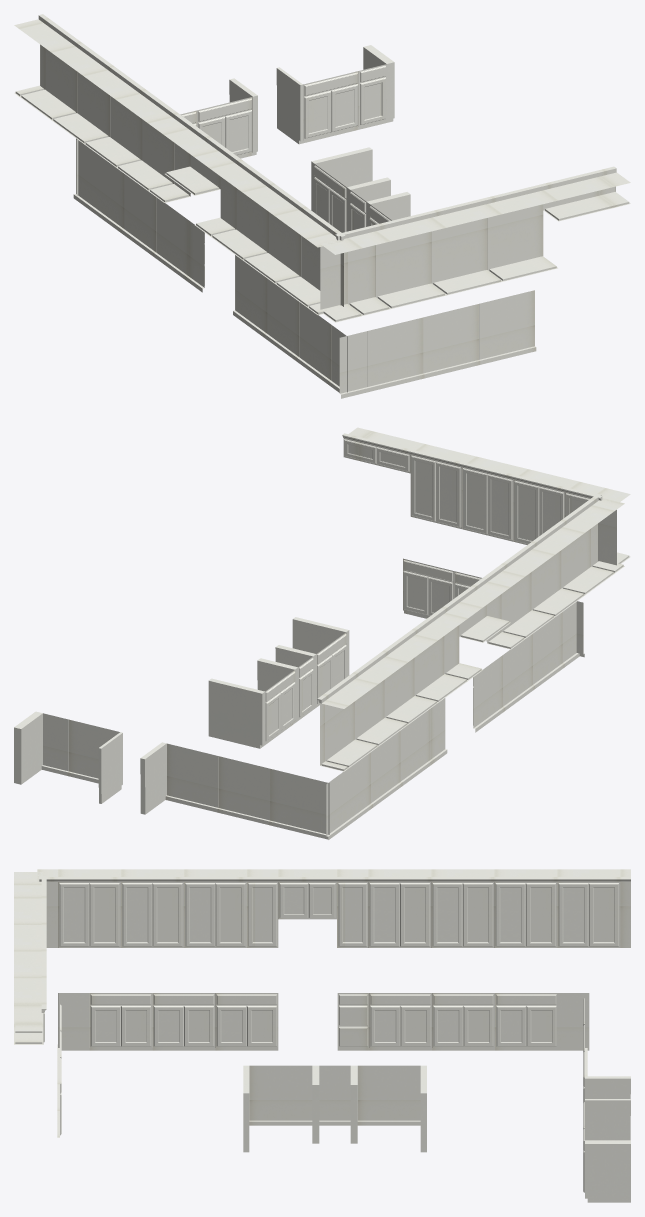
Rendered from 2345_kitchen_cabinets_linen.gltf.
The picture shows the model from 3 angles, top to bottom: view 1: azimuth 30°, elevation 25°; view 2: azimuth 150°, elevation 25°; view 3: azimuth 270°, elevation 25°; orthographic projection. The views are drawn at different scales.
Parts seen in each view (by area): view 1: Kitchen Cabinets Linen; view 2: Kitchen Cabinets Linen; view 3: Kitchen Cabinets Linen.
Boxes of the visible parts, x1,y1,x2,y2 form: Kitchen Cabinets Linen: (14, 14, 630, 398); Kitchen Cabinets Linen: (14, 427, 630, 839); Kitchen Cabinets Linen: (14, 869, 630, 1202).
Bounding box in the file's own units: 6.4 × 2.93 × 9.8.
1 material, 1 textured.
